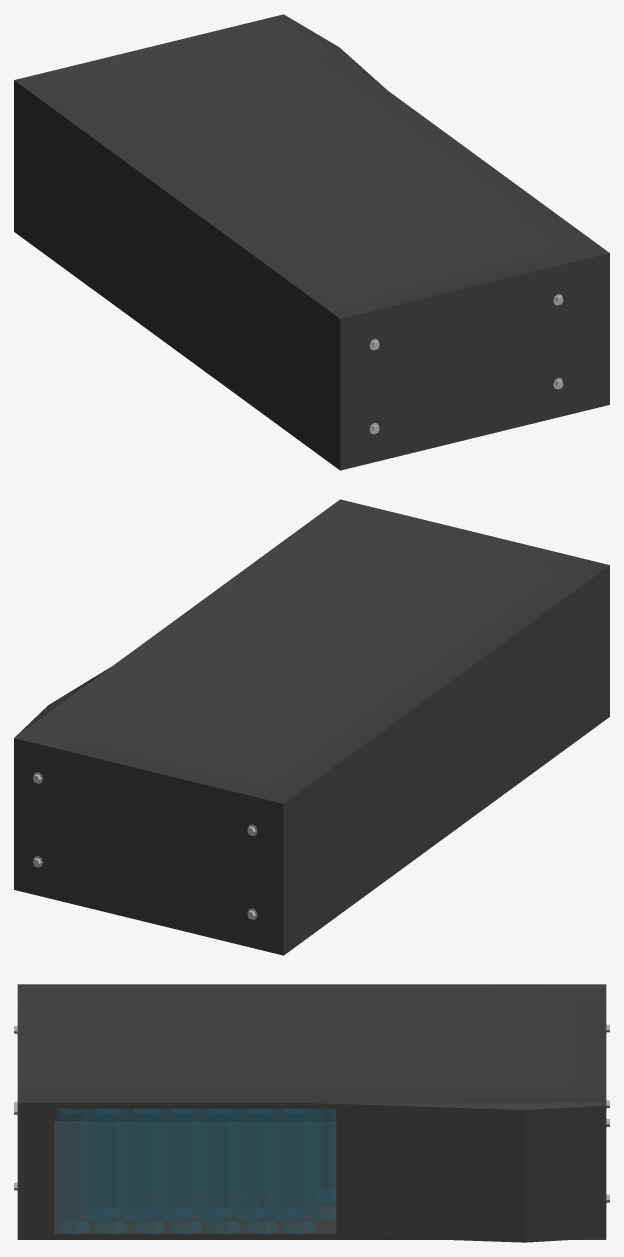
Rendered from CarBattery.fbx.
3 views of the same model, one above another, from view 1: azimuth 30°, elevation 25°; view 2: azimuth 150°, elevation 25°; view 3: azimuth 270°, elevation 25° (orthographic). The views are drawn at different scales.
Visible parts, largest first — view 1: pCube3; view 2: pCube3; view 3: pCube3, pCylinder3, pCylinder5, pCylinder7, pCylinder1, pCylinder6, pCylinder2, pCylinder4, pCylinder20, pCylinder21, pCylinder23, pCylinder25 (+8 smaller).
Boxes of the visible parts, x1=… form: pCube3: x1=14, y1=14, x2=609, y2=470; pCube3: x1=14, y1=499, x2=609, y2=955; pCube3: x1=17, y1=984, x2=606, y2=1242; pCylinder3: x1=131, y1=1109, x2=166, y2=1234; pCylinder5: x1=206, y1=1109, x2=241, y2=1234; pCylinder7: x1=281, y1=1109, x2=316, y2=1234; pCylinder1: x1=57, y1=1109, x2=91, y2=1234; pCylinder6: x1=244, y1=1109, x2=278, y2=1234; pCylinder2: x1=94, y1=1109, x2=128, y2=1234; pCylinder4: x1=169, y1=1109, x2=203, y2=1234; pCylinder20: x1=84, y1=1109, x2=119, y2=1219; pCylinder21: x1=121, y1=1109, x2=156, y2=1219; pCylinder23: x1=196, y1=1109, x2=231, y2=1219; pCylinder25: x1=271, y1=1109, x2=306, y2=1219.
Size of the model in its own units: 0.1399 by 0.0723 by 0.2855.
